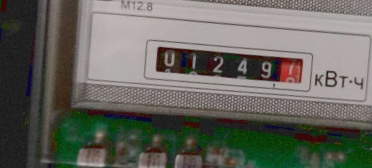0: (162, 46, 177, 68)
1: (186, 49, 199, 70)
2: (210, 53, 226, 74)
4: (235, 55, 249, 75)
7: (283, 56, 298, 76)
9: (258, 58, 273, 80)
screen: (134, 30, 314, 97)
